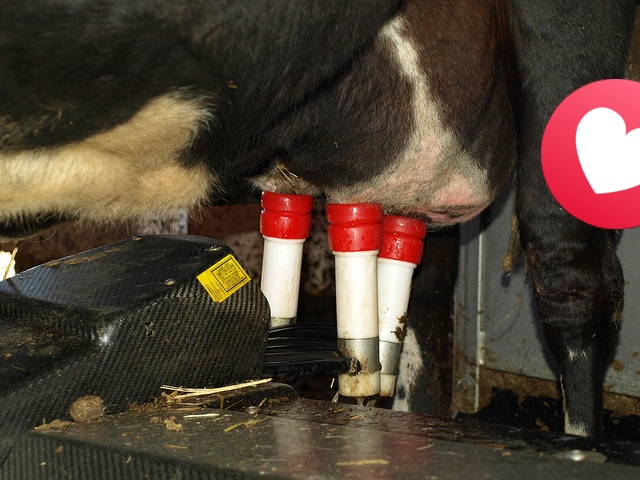love: (541, 79, 640, 229)
